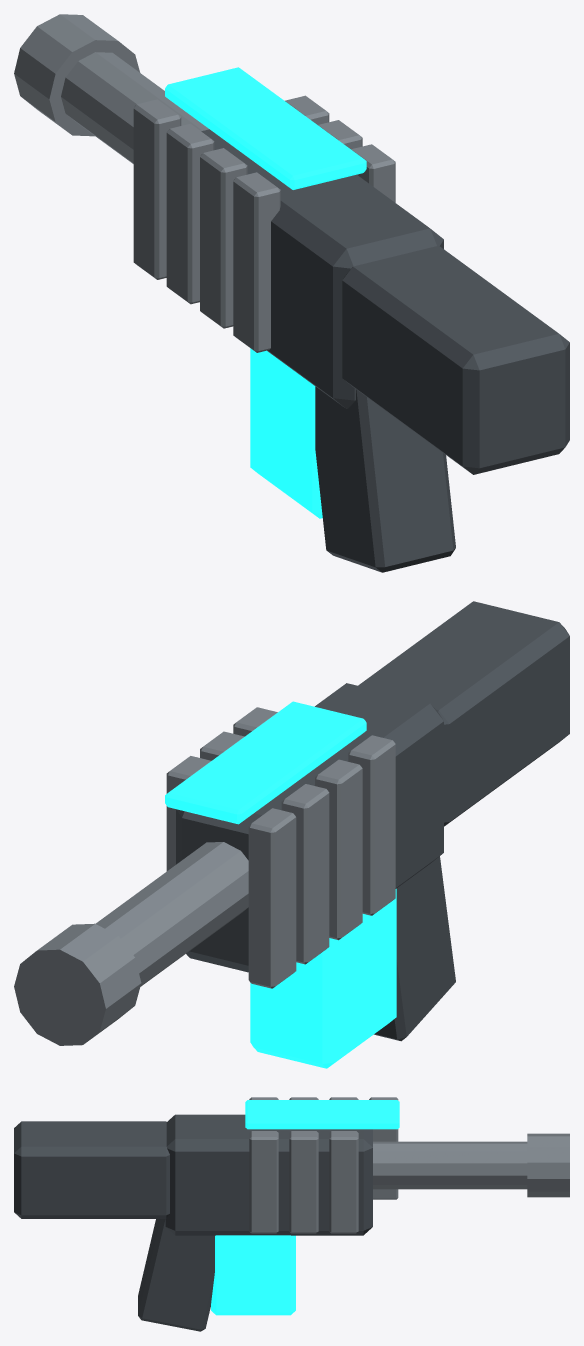
Rendered from WPN_LaserRifle_Fusion_TP_v01.glb.
3 views of the same model, one above another, from view 1: azimuth 30°, elevation 25°; view 2: azimuth 150°, elevation 25°; view 3: azimuth 270°, elevation 25° (orthographic). The views are drawn at different scales.
Parts seen in each view (by area): view 1: MESH_Weapon, MESH_CoolingFins, MESH_HeatSink, MESH_EnergyCell; view 2: MESH_Weapon, MESH_CoolingFins, MESH_EnergyCell, MESH_HeatSink; view 3: MESH_Weapon, MESH_CoolingFins, MESH_EnergyCell, MESH_HeatSink.
Boxes of the visible parts, bbox=[...] form: MESH_Weapon: bbox=[14, 14, 569, 572]; MESH_CoolingFins: bbox=[133, 95, 395, 352]; MESH_HeatSink: bbox=[165, 67, 366, 189]; MESH_EnergyCell: bbox=[250, 348, 322, 518]; MESH_Weapon: bbox=[14, 601, 569, 1045]; MESH_CoolingFins: bbox=[166, 707, 395, 988]; MESH_EnergyCell: bbox=[250, 888, 396, 1068]; MESH_HeatSink: bbox=[165, 701, 366, 824]; MESH_Weapon: bbox=[14, 1114, 569, 1331]; MESH_CoolingFins: bbox=[249, 1097, 398, 1233]; MESH_EnergyCell: bbox=[211, 1235, 295, 1315]; MESH_HeatSink: bbox=[245, 1100, 399, 1129].
Bounding box in the file's own units: 0.185 × 0.4382 × 1.04.
